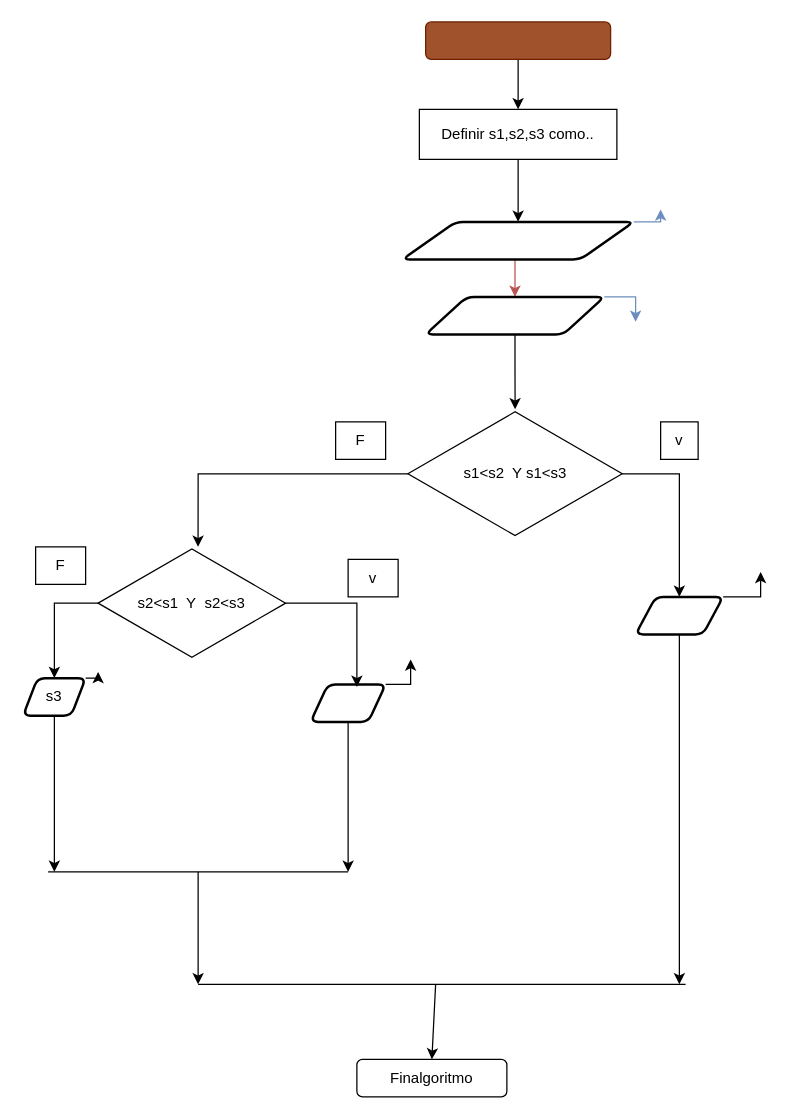
The diagram is 793 pixels wide and 1119 high, and some of its shapes have lost their labels. Here are the shapes that lost their labels. From the top down, the centre of each, then its label:
At pixel 517 40: "Algoritmo encontrar menor".
At pixel 517 240: "Ingresar tres palabras".
At pixel 514 315: "s1,s2,s3".
At pixel 679 615: "s1".
At pixel 347 702: "s2".
